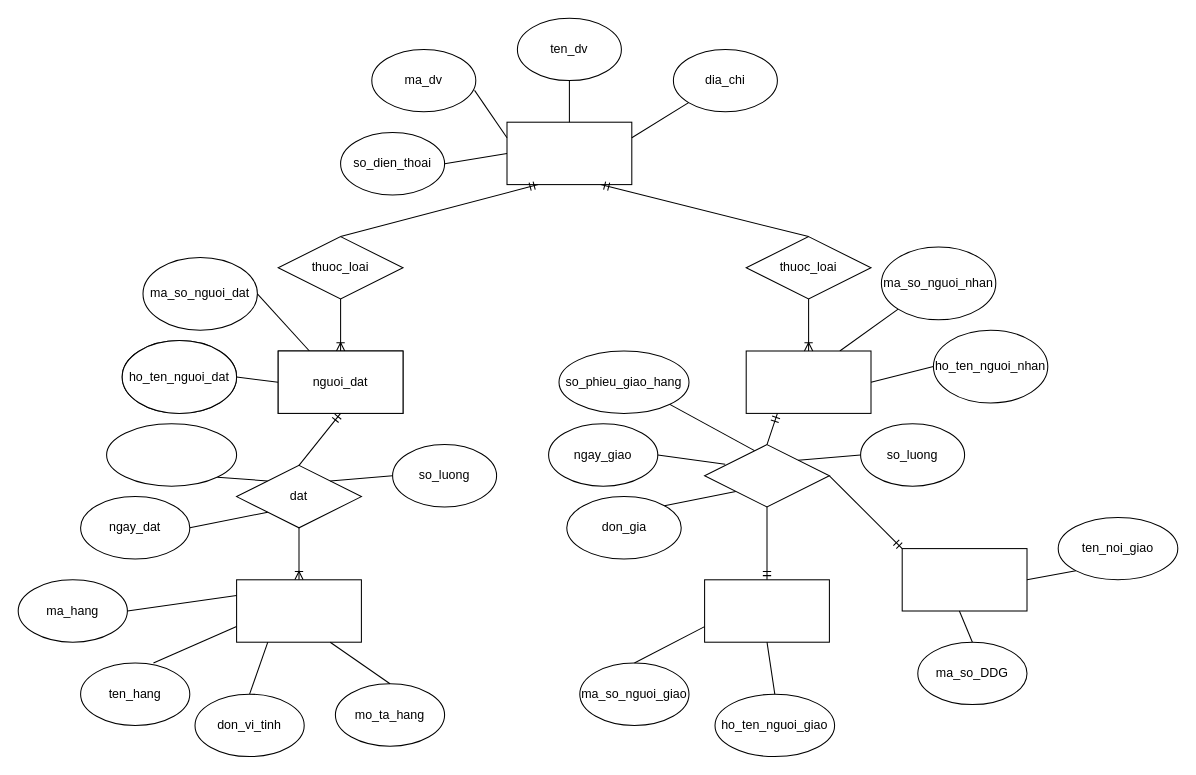
Some shapes in this 1196 by 775 pixel diagram are drawn without their labels. The shapes that lost their labels are listed below. From the top down, each one's box as (x1, y1, x2, y2) in pixels, then its label:
(506, 121, 632, 185): don_vi_khach_hang
(745, 350, 871, 413): nguoi_nhan
(106, 423, 237, 486): so_phieu_dat_hang
(704, 444, 829, 507): giao
(901, 548, 1027, 611): noi_giao
(236, 579, 361, 642): hang
(704, 579, 829, 642): nguoi_giao
